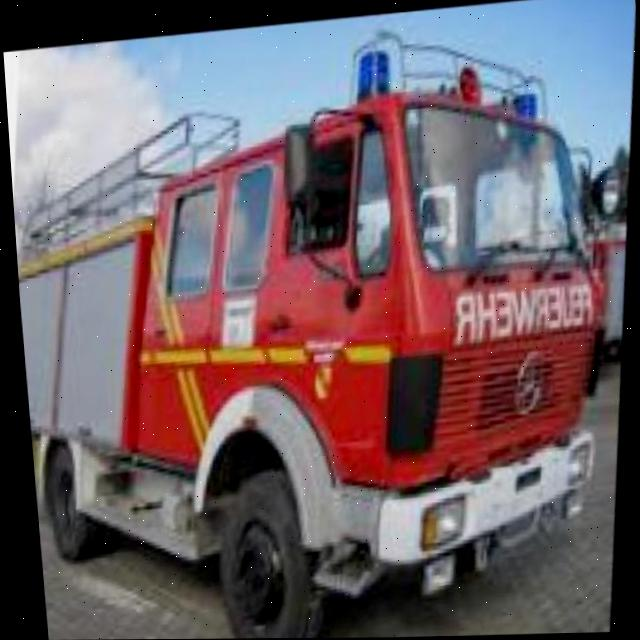emergency: (1, 24, 639, 640)
